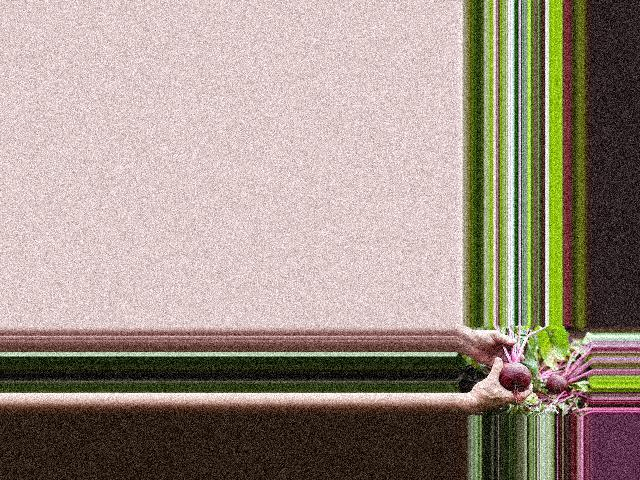beet: (497, 325, 549, 392)
